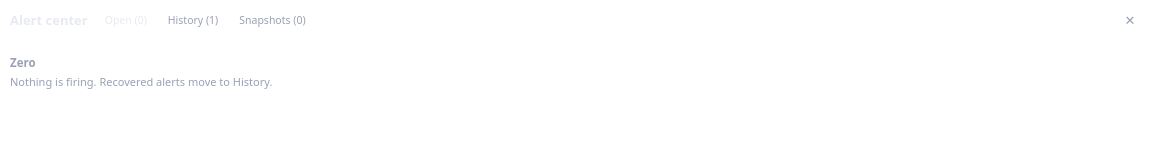
it: alert center › records the recovery time once an alert closes
The width and height of the screenshot is (1151, 161).
Click the tab "History (1)" at (193, 20), box [159,10,227,30]
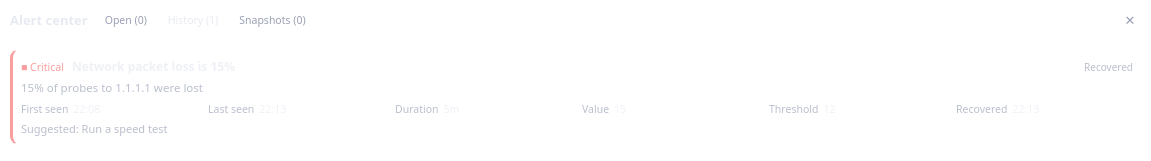
Check: the text "Recovered" in the row of "■ Critical" is shown, box [1084,60,1133,74]
